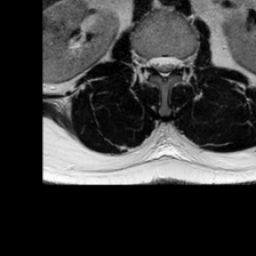CCS_normal: (159, 47, 168, 87)
LFS_normal: (178, 46, 189, 77)
LLS_normal: (168, 46, 178, 79)
RFS_normal: (139, 45, 149, 73)
RLS_normal: (149, 46, 159, 77)
